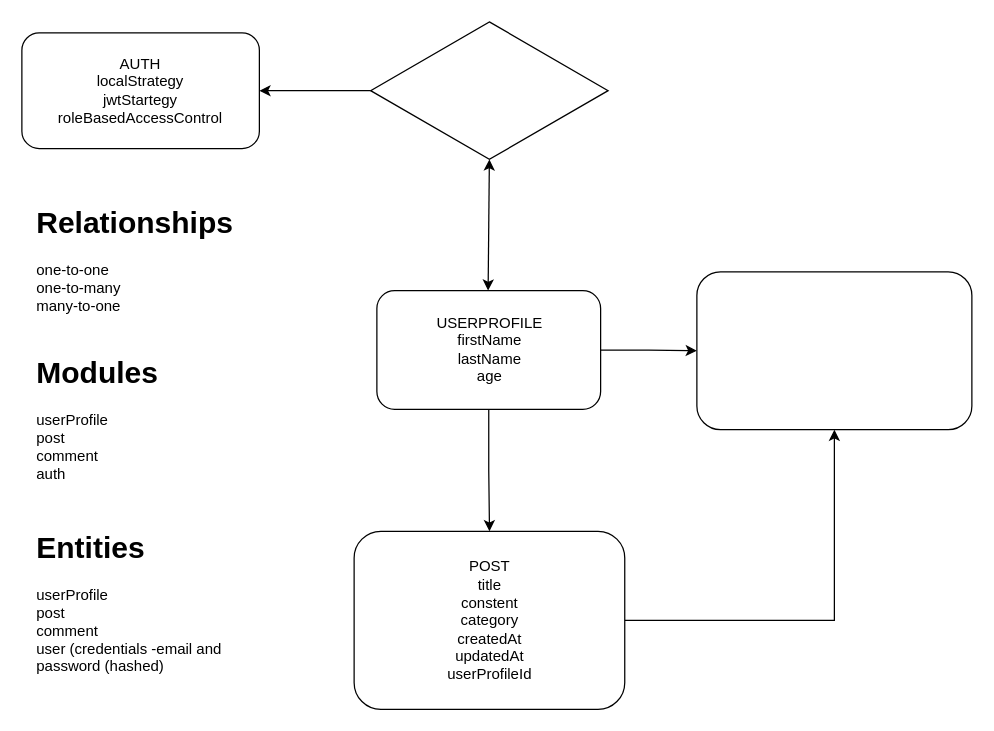
This 994x731 diagram has some shape labels left out. The shapes that lost their labels are listed below. From the top down, each one's centre as x and y in pixels, then its label:
point (488, 90): USER email password
point (834, 350): COMMENT content createdAt updatedAt postId userProfileId
